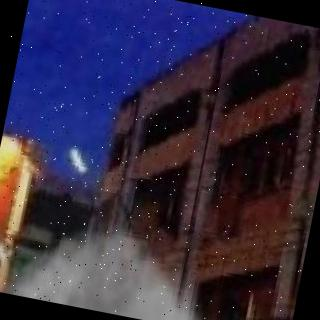smoke: (0, 208, 246, 320)
